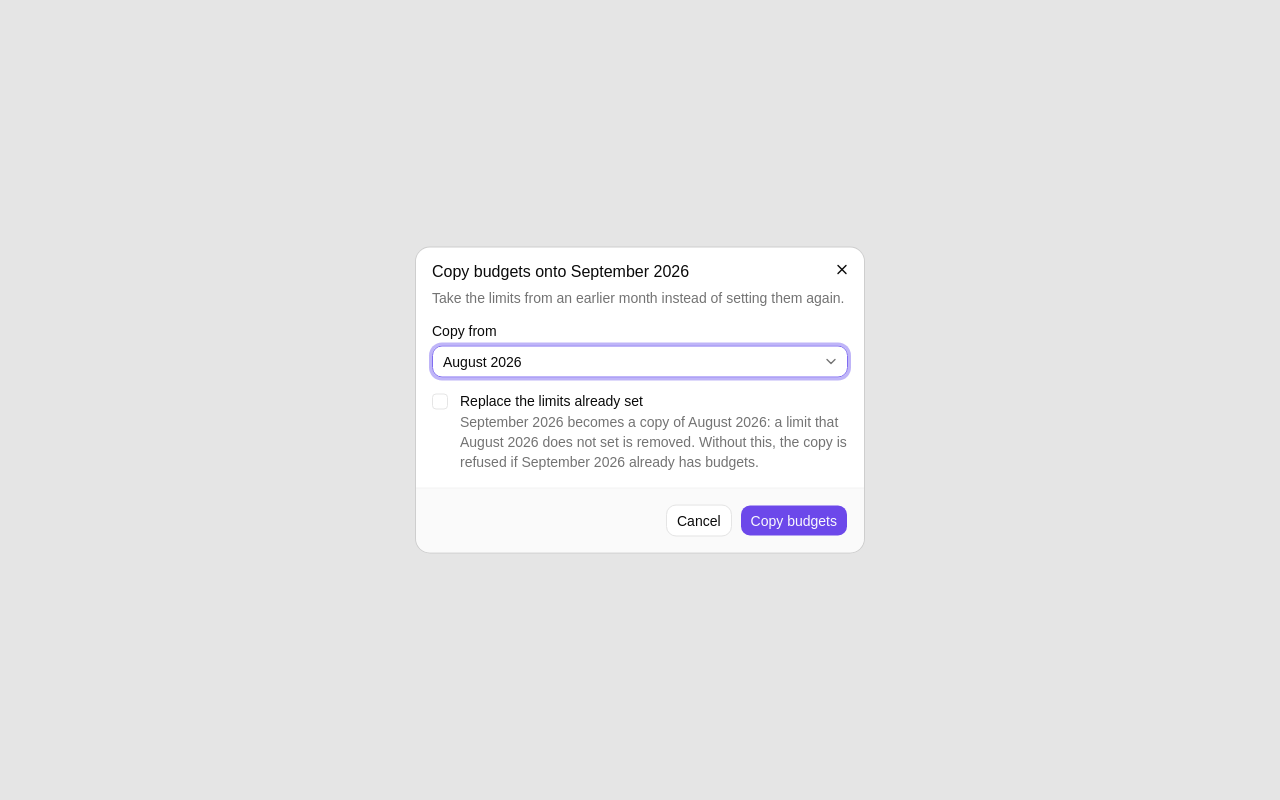
it: replacing the limits already set › counts them when there is more than one
Click the checkbox named "Replace the limits already set": (440, 402) [432,394,448,410]
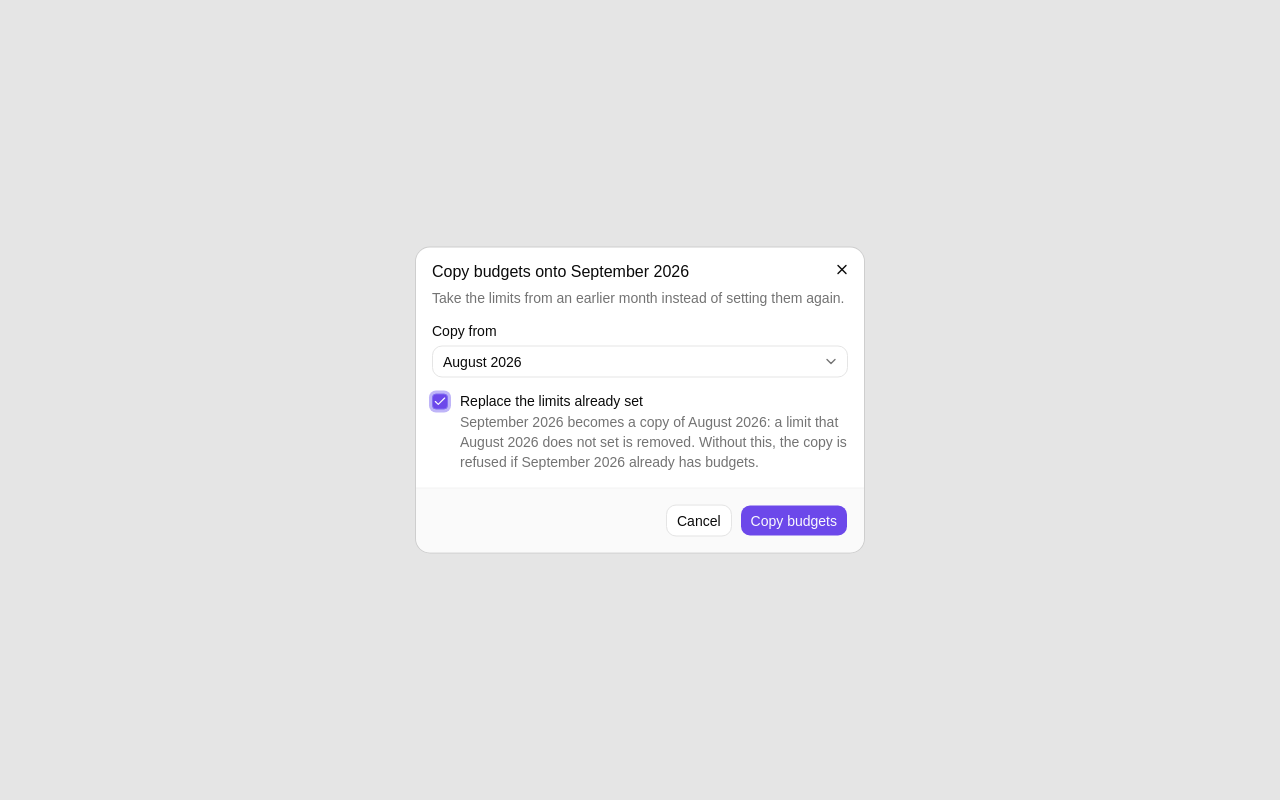
Click the button "Copy budgets": (794, 520) [740,504,848,536]
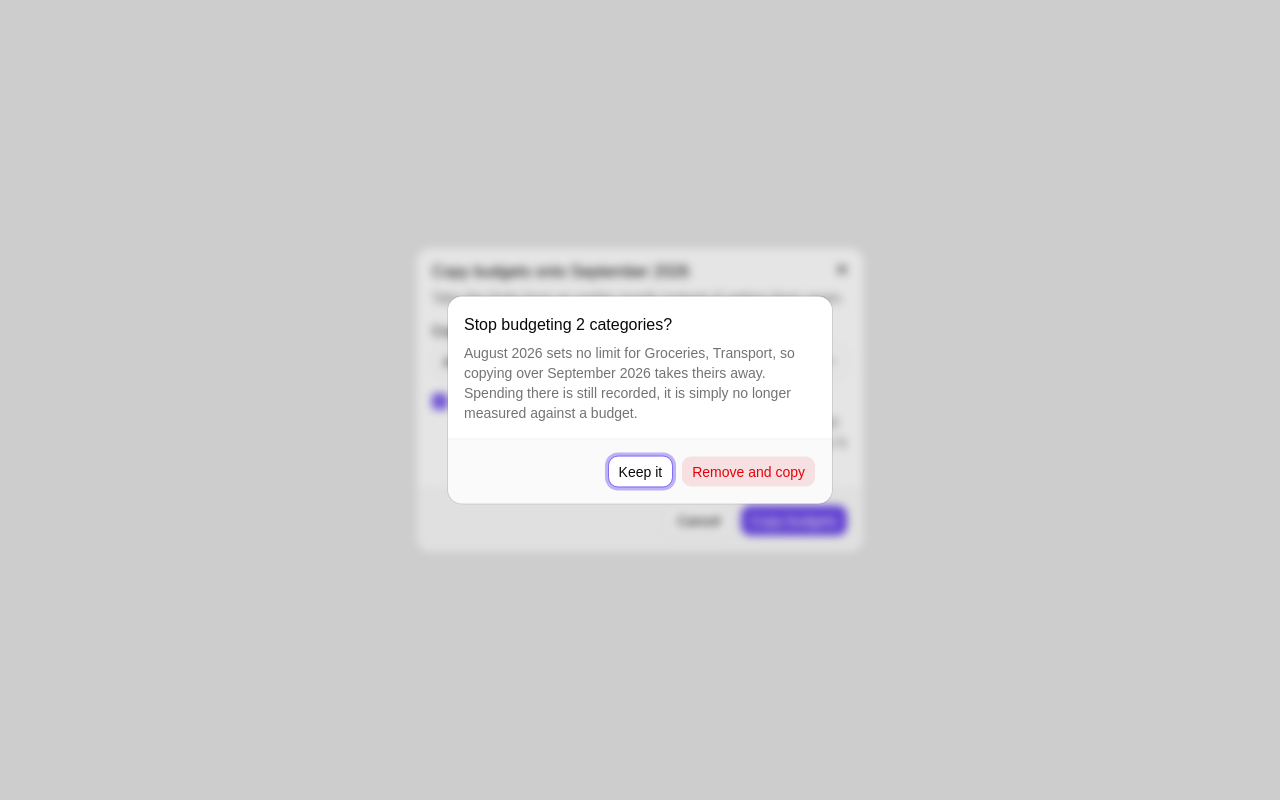
Expected: the heading "Stop budgeting 2 categories?" is shown, [464,312,672,336]
Expected: the text "Groceries, Transport" is shown, [644,344,772,360]
